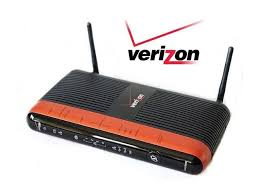Verizon Router: (21, 19, 237, 175)
